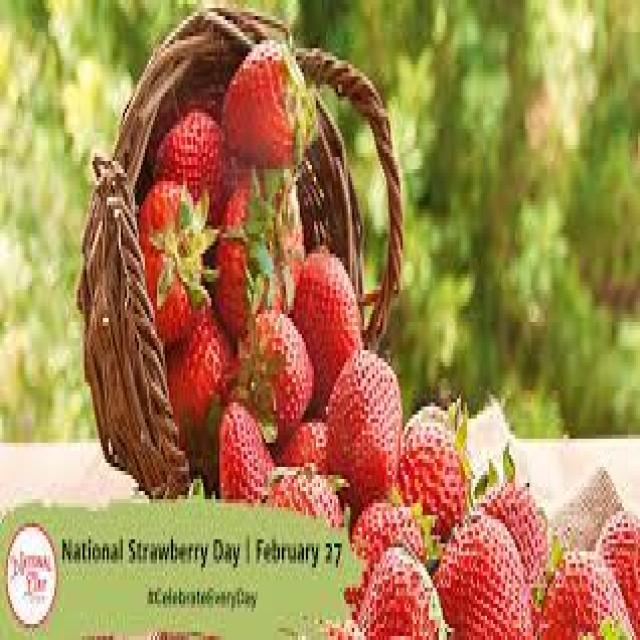strawberry: (442, 528, 540, 640), (322, 359, 398, 501), (222, 43, 307, 162), (248, 293, 314, 422)
